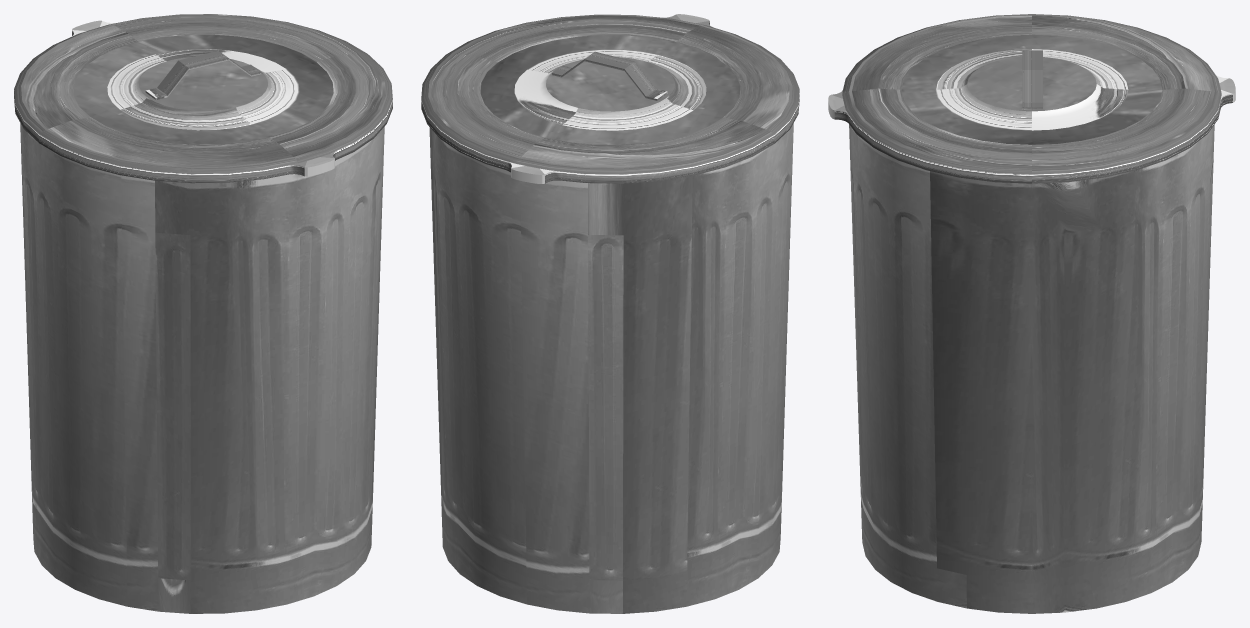
File: trashcan.fbx
3 views of the same model, side by side, from view 1: azimuth 30°, elevation 25°; view 2: azimuth 150°, elevation 25°; view 3: azimuth 270°, elevation 25° (orthographic).
Parts seen in each view (by area): view 1: Cylinder, Cylinder.001; view 2: Cylinder, Cylinder.001; view 3: Cylinder, Cylinder.001.
Boxes of the visible parts, <box> form: Cylinder: <box>20,123,384,613</box>; Cylinder.001: <box>14,14,392,183</box>; Cylinder: <box>429,123,793,613</box>; Cylinder.001: <box>421,14,799,183</box>; Cylinder: <box>849,124,1214,613</box>; Cylinder.001: <box>828,14,1235,183</box>.
Size of the model in its own units: 70.03 by 98.18 by 75.07.
